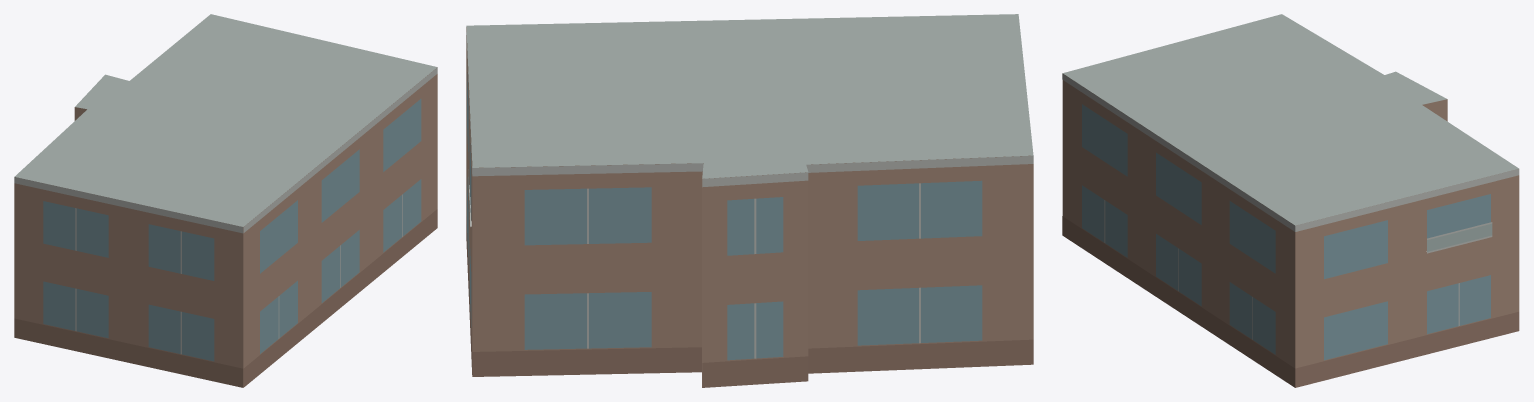
The model's file is survey-upis-33000429.glb.
3 views of the same model, side by side, from view 1: azimuth 30°, elevation 25°; view 2: azimuth 150°, elevation 25°; view 3: azimuth 270°, elevation 25° (orthographic). The views are drawn at different scales.
Parts seen in each view (by area): view 1: survey-upis-33000429.tmp; view 2: survey-upis-33000429.tmp; view 3: survey-upis-33000429.tmp.
Part boxes in pixels (left/top/right/bottom): survey-upis-33000429.tmp: left=14, top=14, right=437, bottom=387; survey-upis-33000429.tmp: left=466, top=14, right=1033, bottom=387; survey-upis-33000429.tmp: left=1062, top=14, right=1519, bottom=387.
Bounding box in the file's own units: 17.07 × 6.1 × 15.57.
